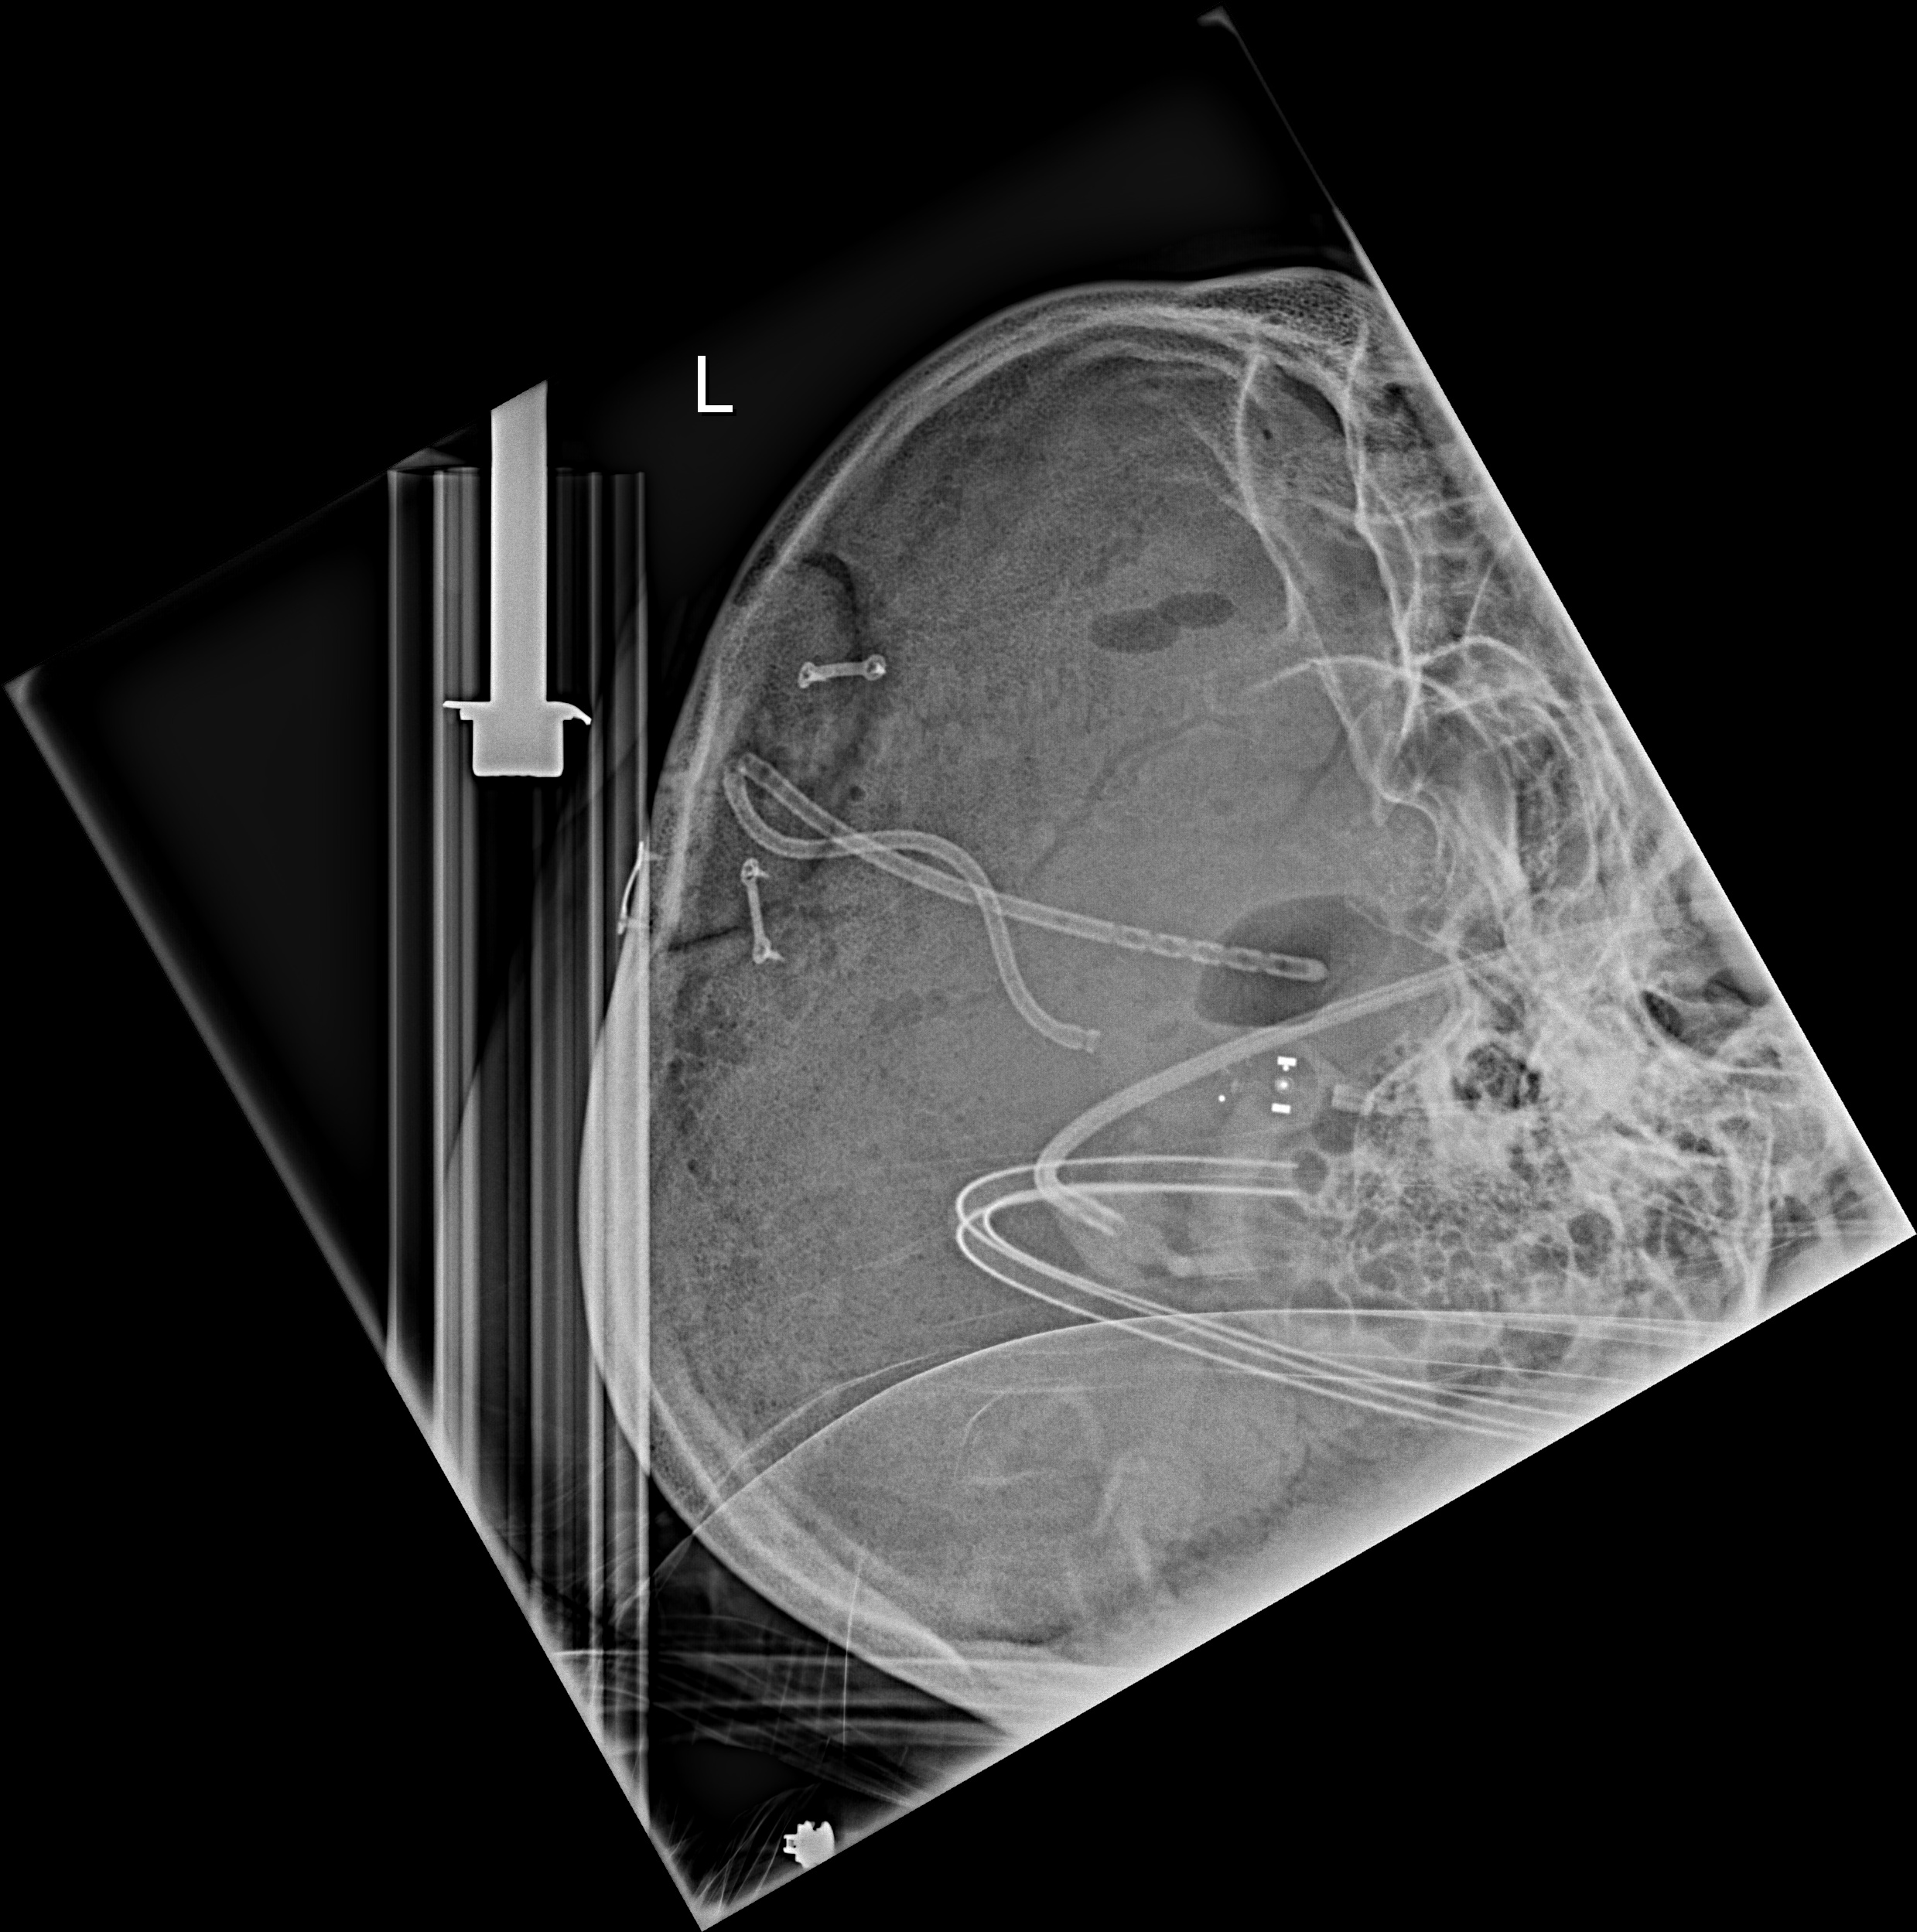Codman Certas: (1199, 1032, 1336, 1148)
